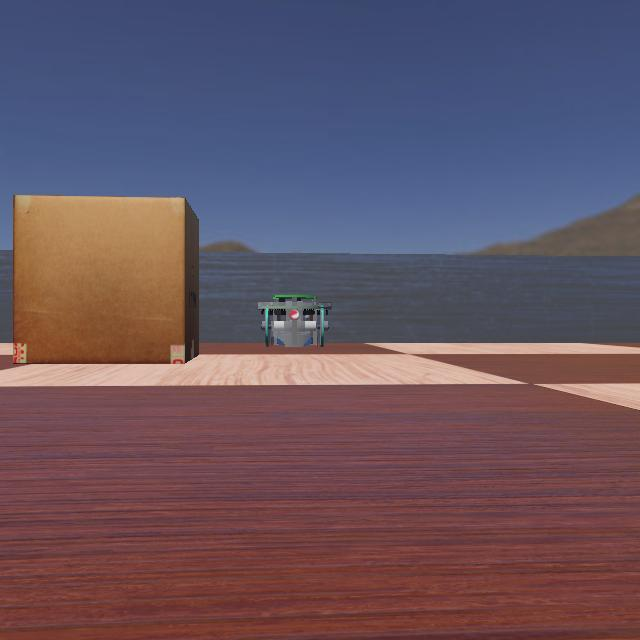cardboard-box: (0, 193, 210, 364)
